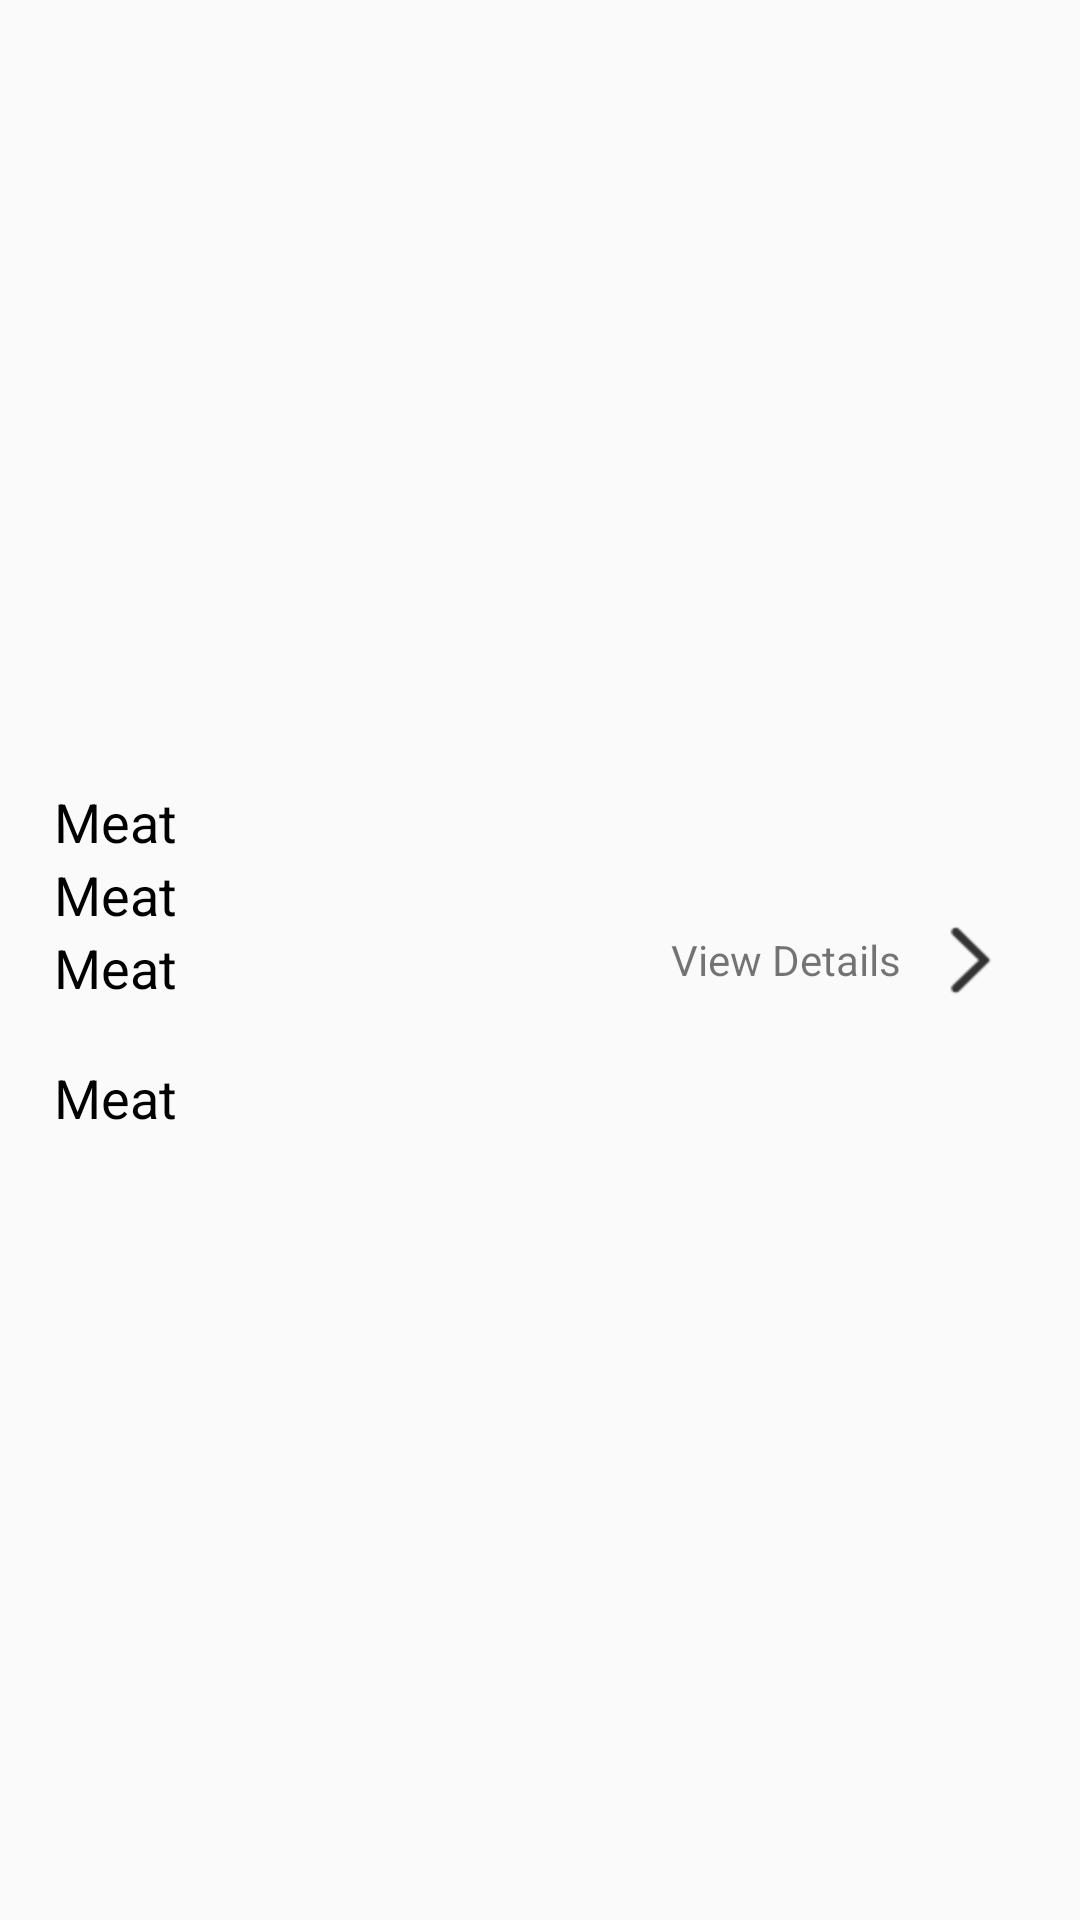

Screen size 1080*1920. Icon name, then its center in pixels as [x,y]:
next: [970,960]
